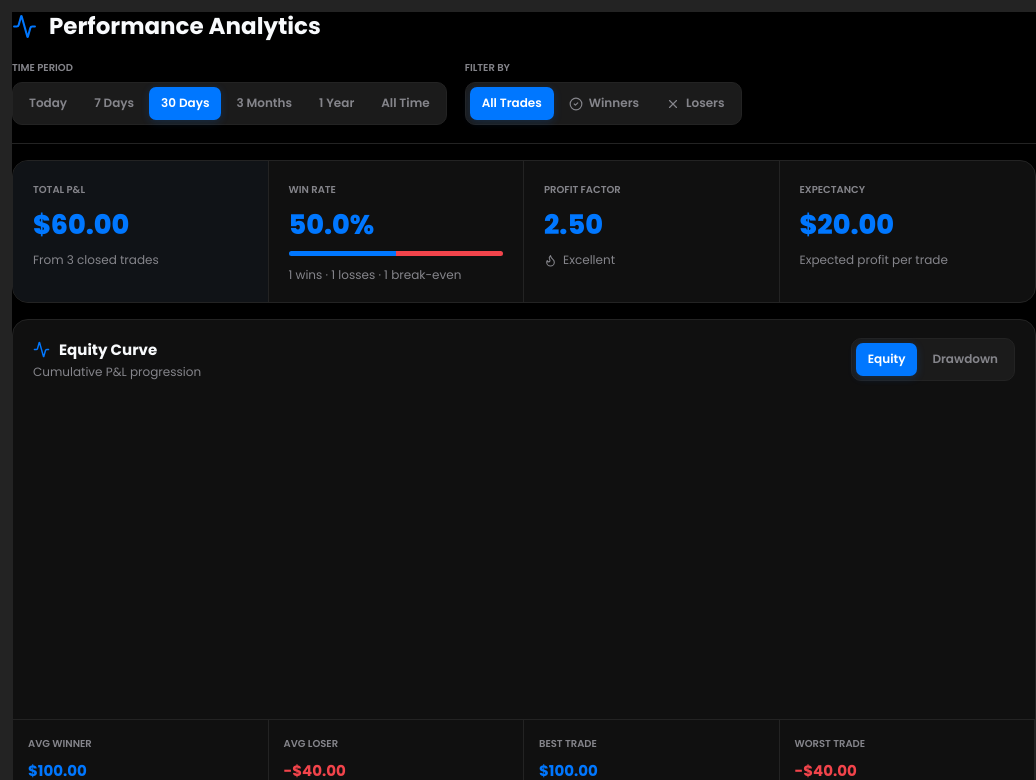
Scenario: Analysis redesign › reports drawdown as a loss and handles profit factor with no losing trades
This screenshot has width=1036, height=780.
Click the button "Winners" at point(604, 104), box [557,87,651,120]
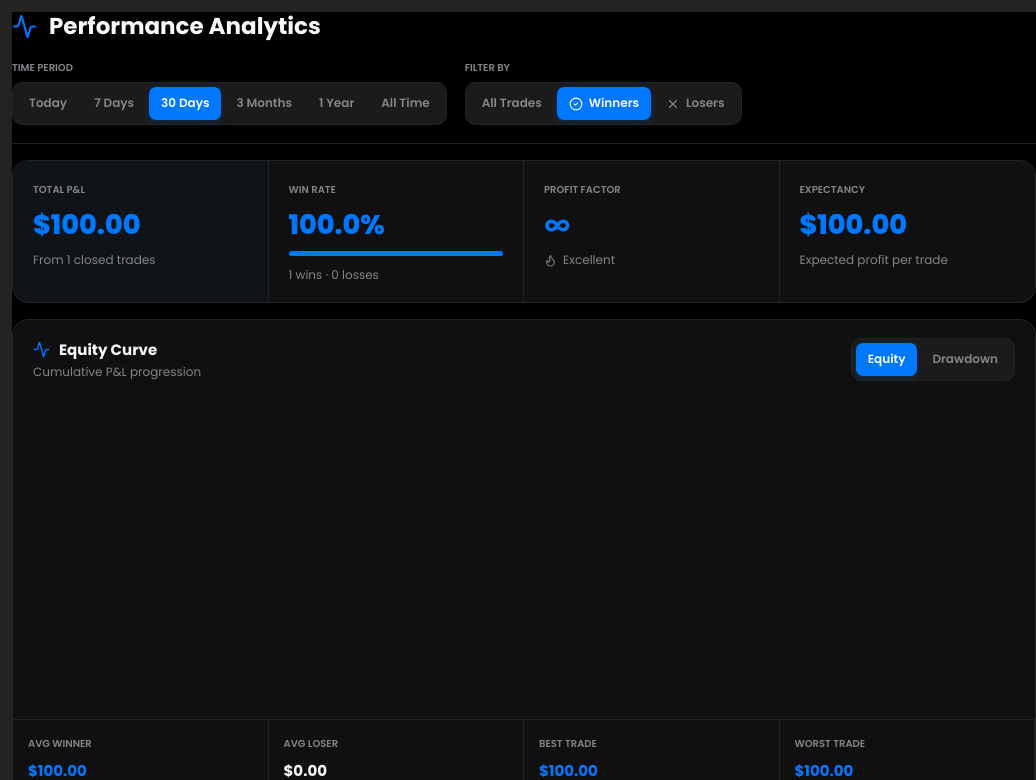
Check: the element with class "an-kpi" shows "∞", box [544,206,570,243]
